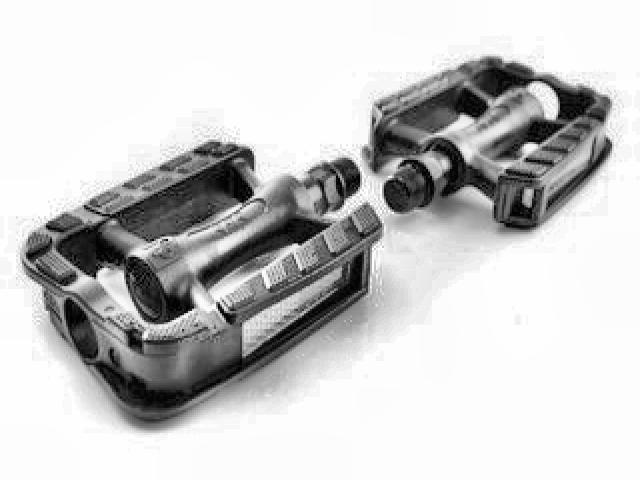pedal: (18, 132, 384, 432), (362, 48, 615, 231)
